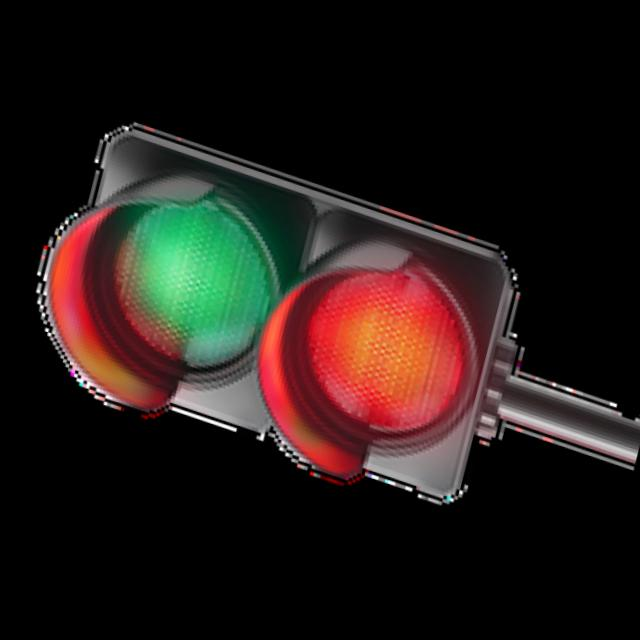green_light: (27, 77, 343, 523)
red_light: (231, 191, 530, 574)
